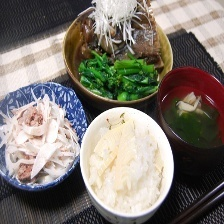rice: (84, 113, 171, 216)
